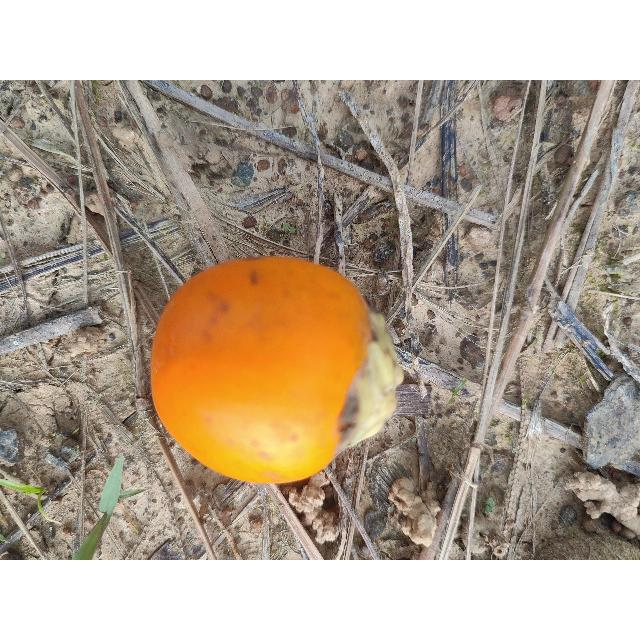good: (148, 257, 405, 487)
